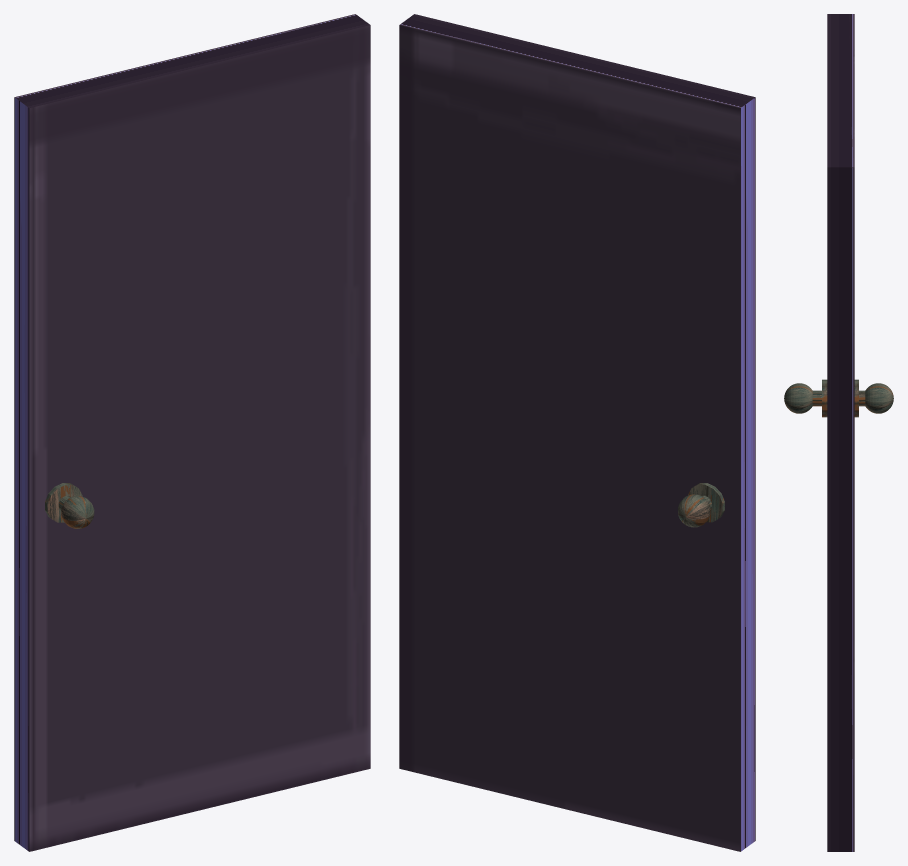
Rendered from SM_bathroom_door.fbx.
The picture shows the model from 3 angles, left to right: view 1: azimuth 30°, elevation 25°; view 2: azimuth 150°, elevation 25°; view 3: azimuth 270°, elevation 25°; orthographic projection. The views are drawn at different scales.
Visible parts, largest first — view 1: SM_bthrmdoor, SM_doorknob; view 2: SM_bthrmdoor, SM_doorknob; view 3: SM_bthrmdoor, SM_doorknob.
Part boxes in pixels (x1,y1,x2,y2): SM_bthrmdoor: [14, 14, 370, 851]; SM_doorknob: [45, 483, 94, 528]; SM_bthrmdoor: [399, 14, 755, 851]; SM_doorknob: [678, 483, 724, 527]; SM_bthrmdoor: [827, 14, 854, 851]; SM_doorknob: [784, 379, 893, 417].
Bounding box in the file's own units: 81.54 × 170 × 24.68.
